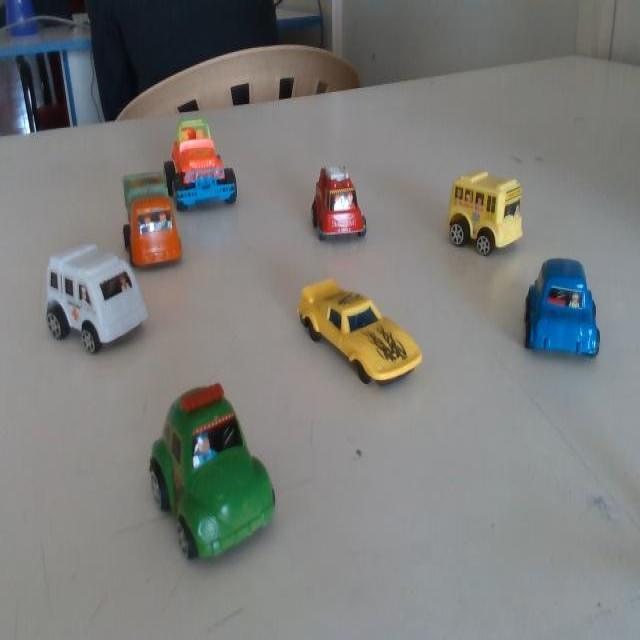car: (141, 390, 271, 546), (38, 228, 155, 372), (294, 274, 422, 392), (168, 110, 248, 210), (525, 258, 603, 360), (439, 170, 519, 262), (119, 162, 182, 272), (300, 157, 368, 255)
